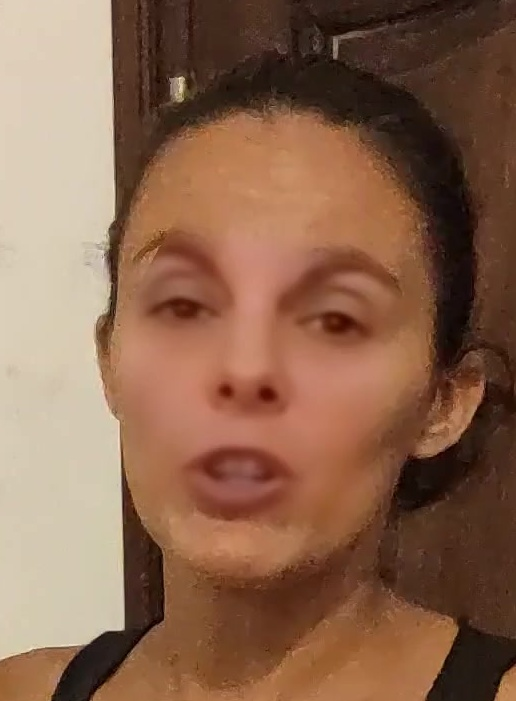eb_f: (119, 223, 408, 350)
